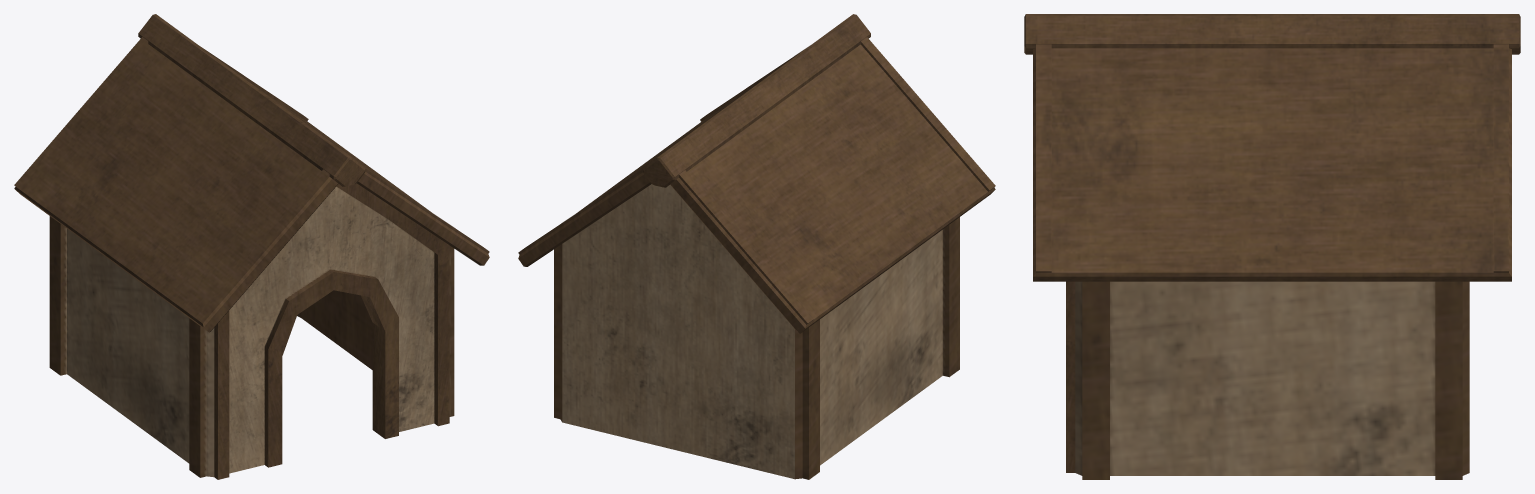
The model's file is doghouse.glb.
The picture shows the model from 3 angles, left to right: view 1: azimuth 30°, elevation 25°; view 2: azimuth 150°, elevation 25°; view 3: azimuth 270°, elevation 25°; orthographic projection. The views are drawn at different scales.
Parts seen in each view (by area): view 1: SM_DogHouse; view 2: SM_DogHouse; view 3: SM_DogHouse.
Part boxes in pixels (x1=…): SM_DogHouse: x1=14, y1=14, x2=489, y2=479; SM_DogHouse: x1=518, y1=14, x2=995, y2=479; SM_DogHouse: x1=1024, y1=14, x2=1520, y2=479.
Bounding box in the file's own units: 1.08 × 1.09 × 1.27.
1 material, 1 textured.
